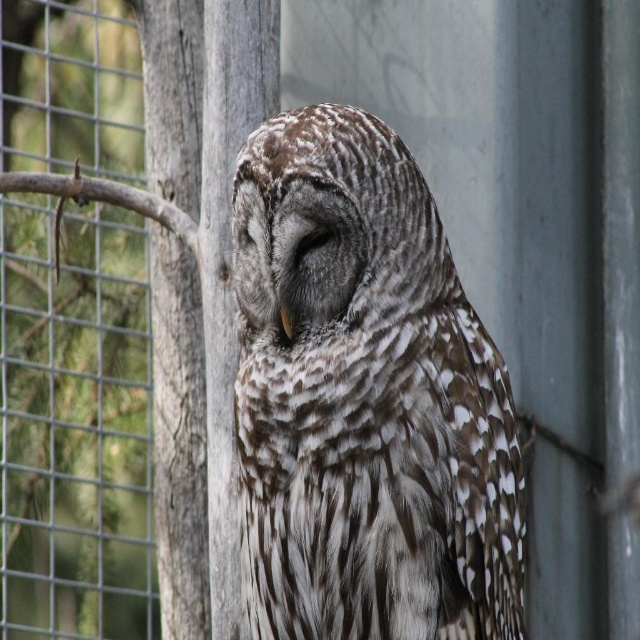Owl: (232, 101, 531, 639)
